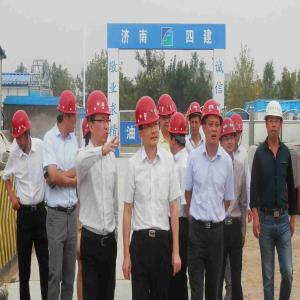red: (135, 94, 161, 150), (87, 89, 112, 146), (201, 98, 224, 149), (12, 110, 33, 152), (58, 91, 78, 134), (169, 112, 188, 153), (218, 116, 237, 157), (158, 92, 175, 134), (188, 102, 203, 137), (231, 112, 244, 146)
white: (264, 99, 286, 143)
